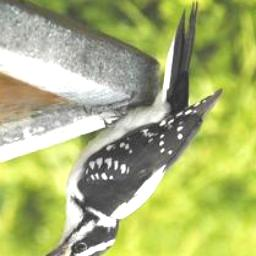Woodpecker: (27, 0, 222, 256)
